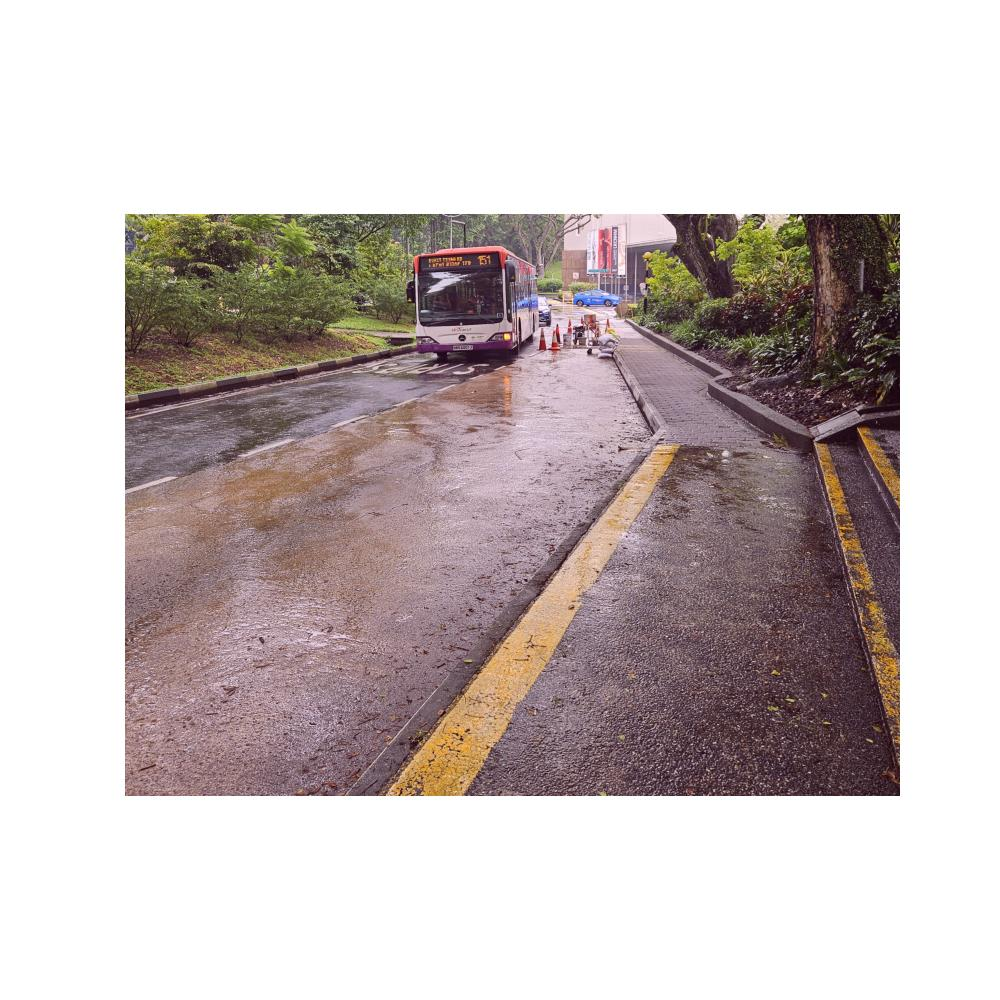bus: (403, 240, 544, 363)
